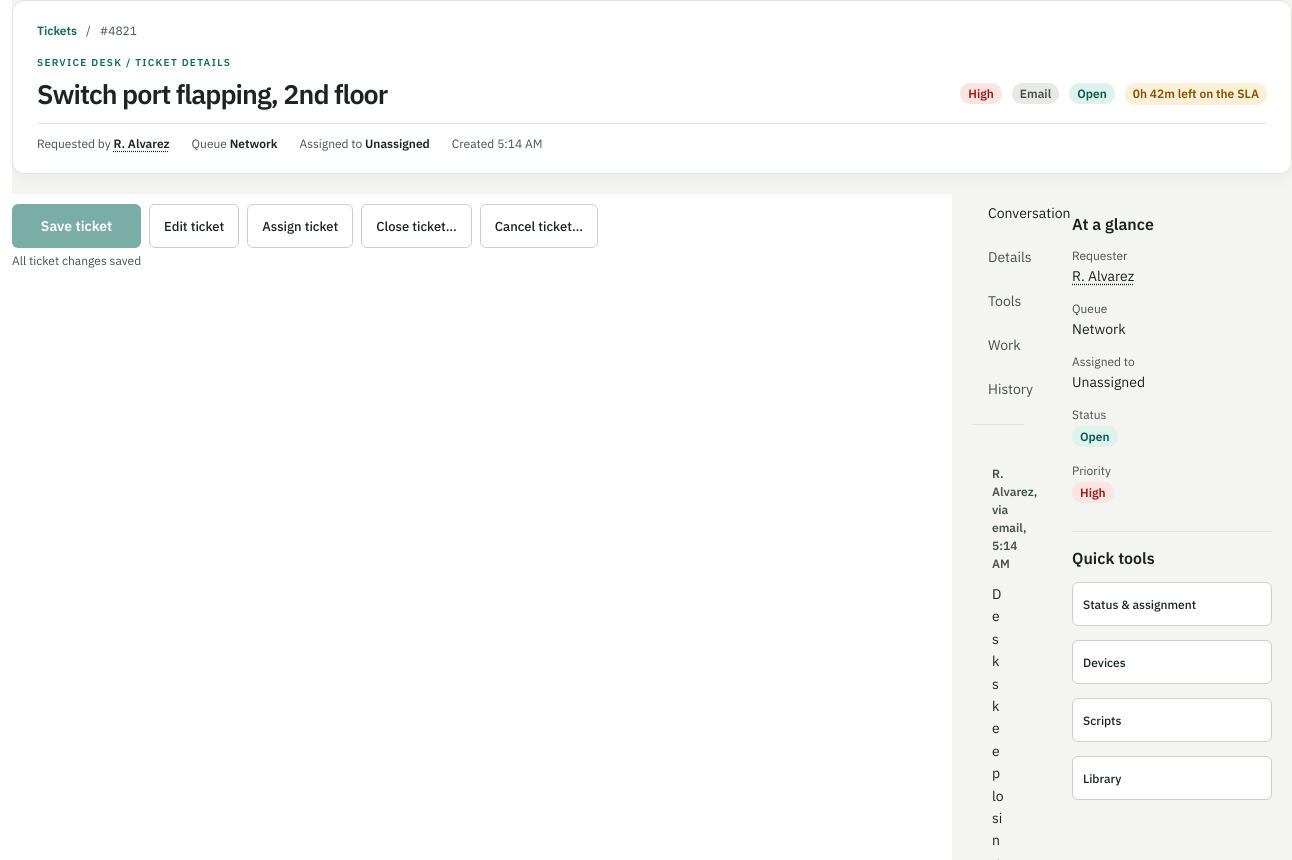
Scenario: double clicking Save cannot duplicate a request while saving
Click the tab "Details".
click(1010, 257)  # box 972,238 -> 1048,276
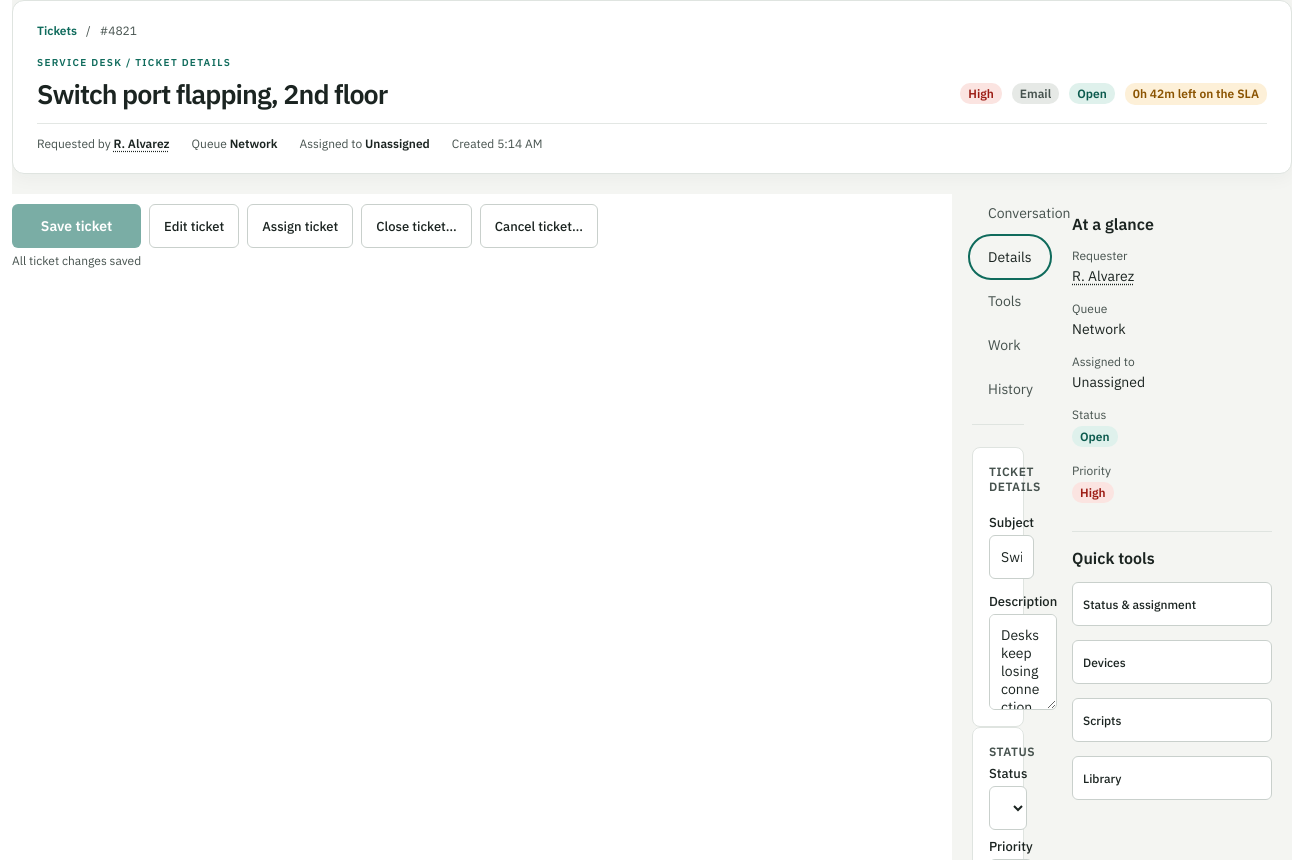
Type " changed" into the field labelled "Subject".
click(1012, 557); type(" changed")  # box 989,535 -> 1034,579
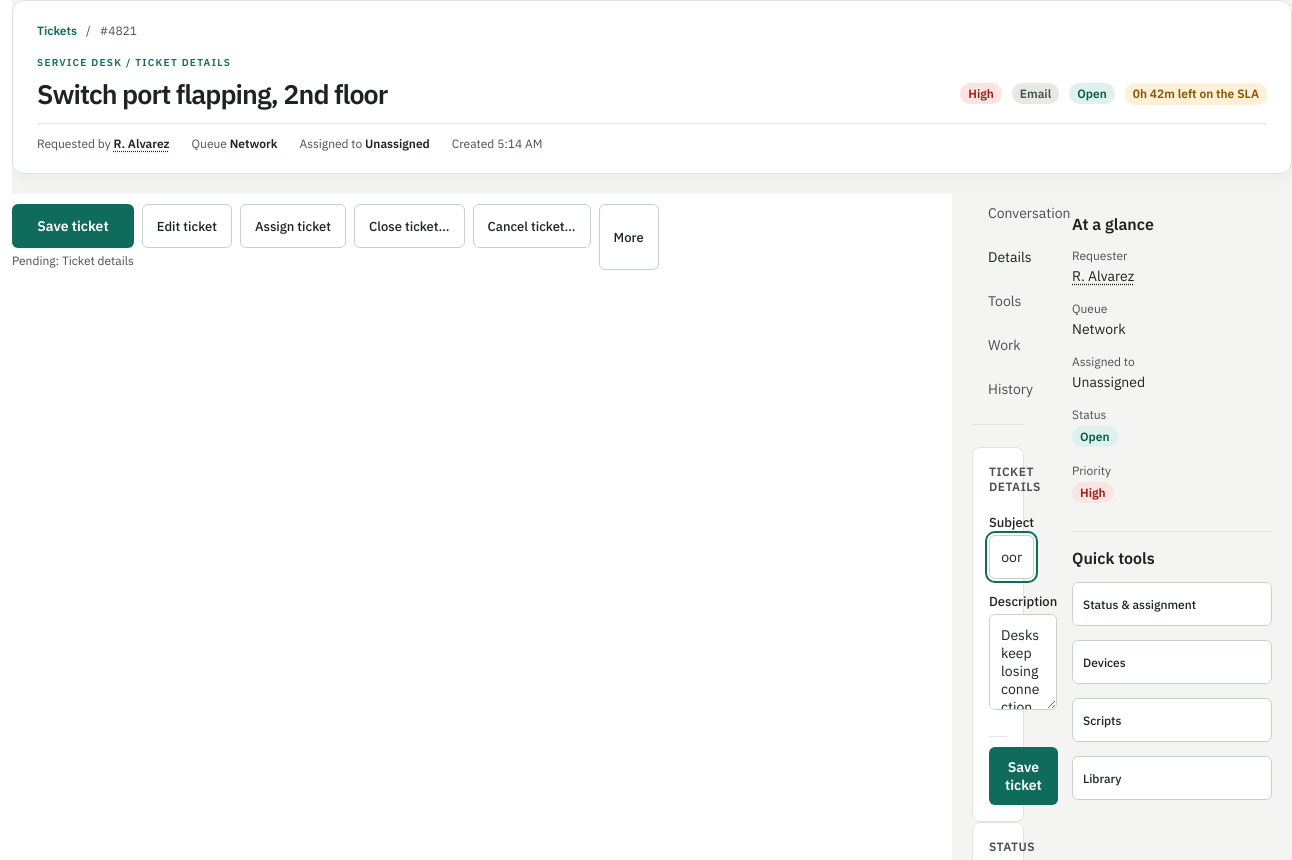
Double-click the button "Save ticket" in the row of "More".
double_click(73, 226)  # box 12,204 -> 134,248
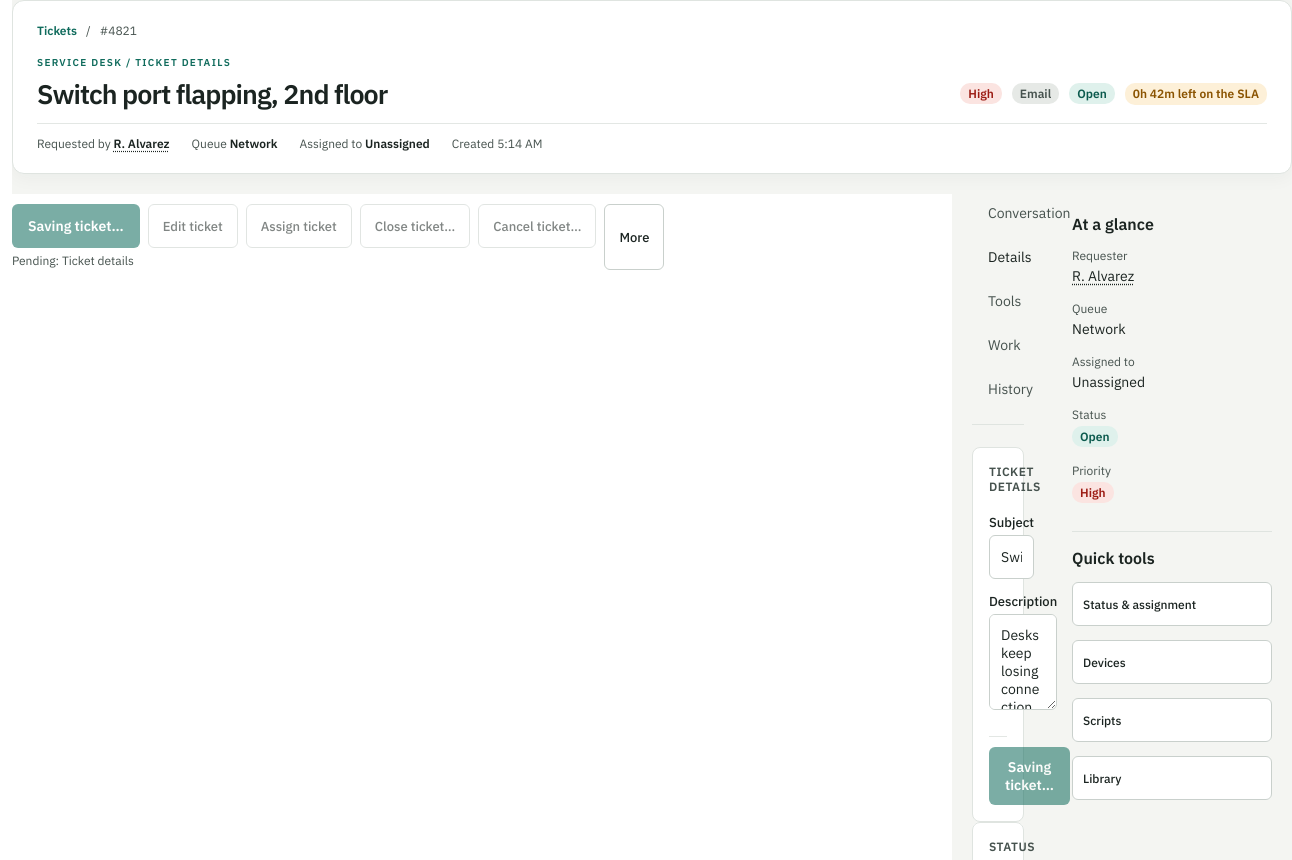
Expected: the button "Saving ticket…" in the row of "More" is disabled, 12,204 -> 140,248
Expected: the button "Saving ticket…" below "Description" is disabled, 989,747 -> 1070,805
